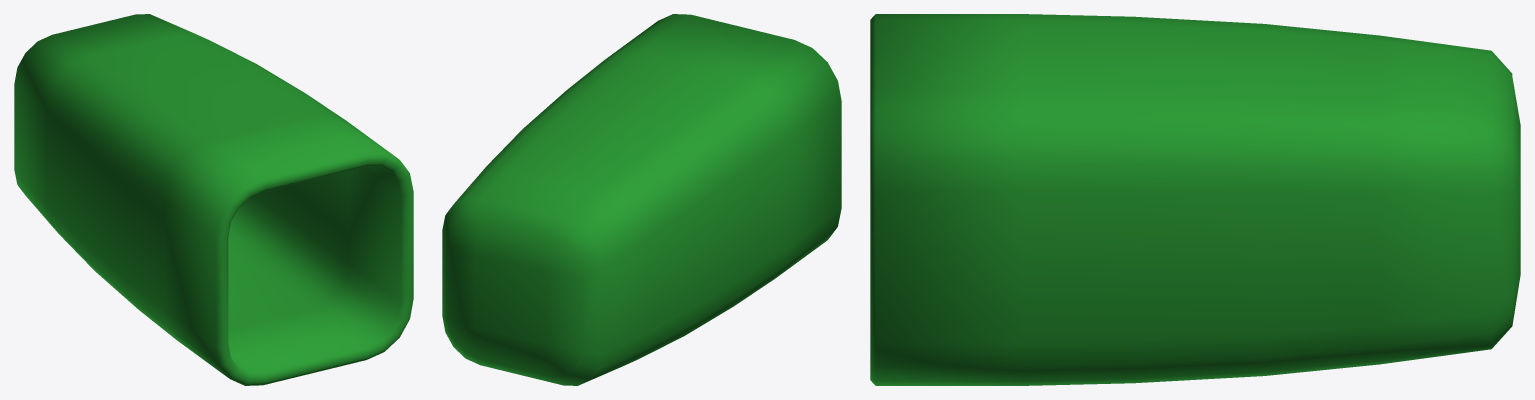
File: MeshCup_10_0_GeomSubset_0.obj
The picture shows the model from 3 angles, left to right: view 1: azimuth 30°, elevation 25°; view 2: azimuth 150°, elevation 25°; view 3: azimuth 270°, elevation 25°; orthographic projection. The views are drawn at different scales.
Parts seen in each view (by area): view 1: MeshCup_10_0_GeomSubset_0; view 2: MeshCup_10_0_GeomSubset_0; view 3: MeshCup_10_0_GeomSubset_0.
Boxes of the visible parts, <box> form: MeshCup_10_0_GeomSubset_0: <box>14,14,413,385</box>; MeshCup_10_0_GeomSubset_0: <box>442,14,841,385</box>; MeshCup_10_0_GeomSubset_0: <box>870,14,1520,385</box>.
Bounding box in the file's own units: 0.0724 × 0.0724 × 0.1484.
